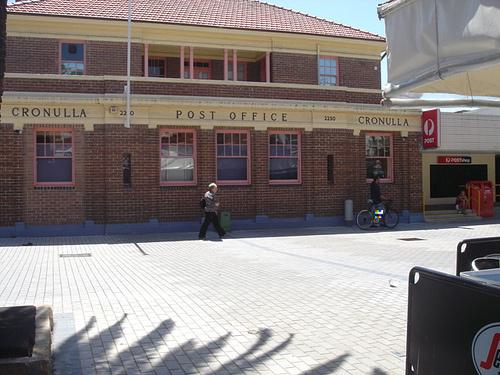car: (357, 196, 401, 232)
person: (196, 183, 227, 240), (369, 177, 388, 228), (456, 192, 471, 216)
